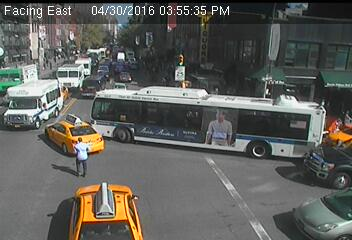neg: (161, 56, 190, 94)
pos: (62, 133, 95, 177)
